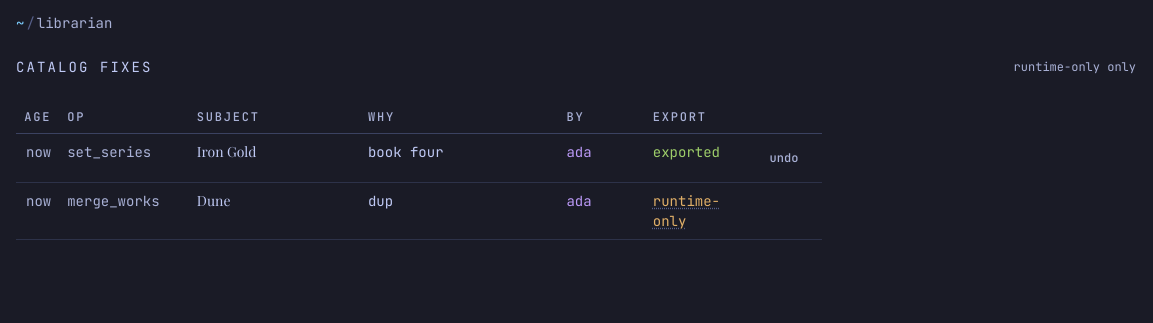
Librarian log › says why an undo was refused
The width and height of the screenshot is (1153, 323).
Click the button with aria-label "undo Iron Gold" at (784, 158), box 754,142 -> 814,174
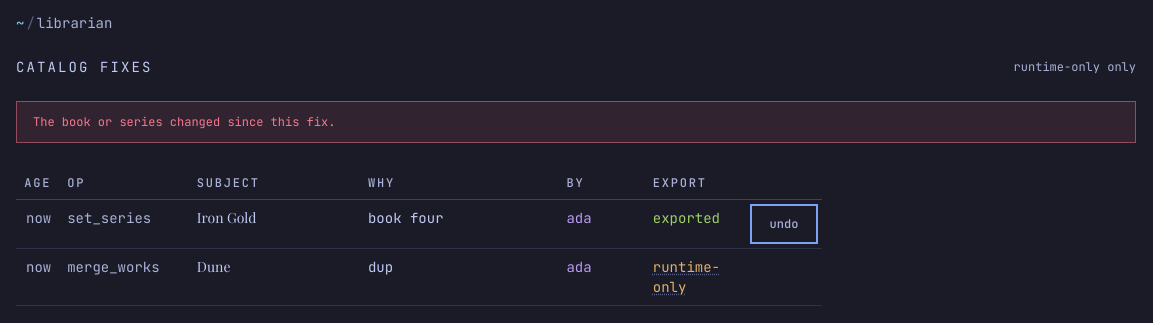
Check: the text "The book or series changed since this fix." is shown, box 16,101 -> 1136,143
